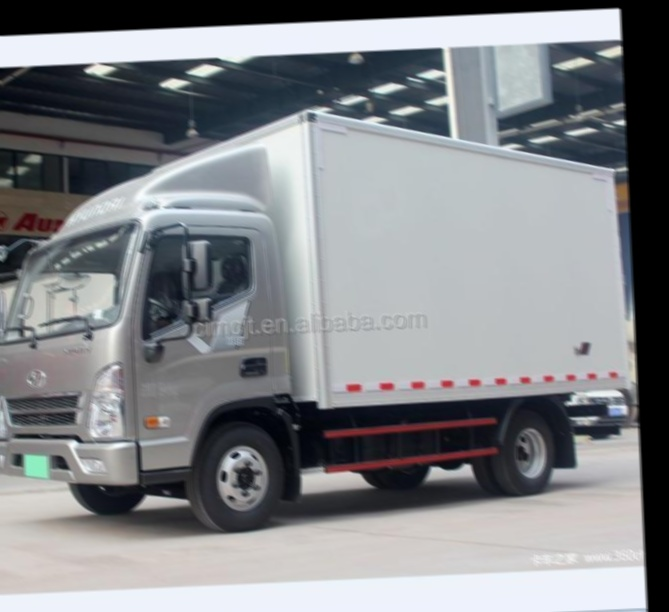truck: (0, 82, 642, 541)
